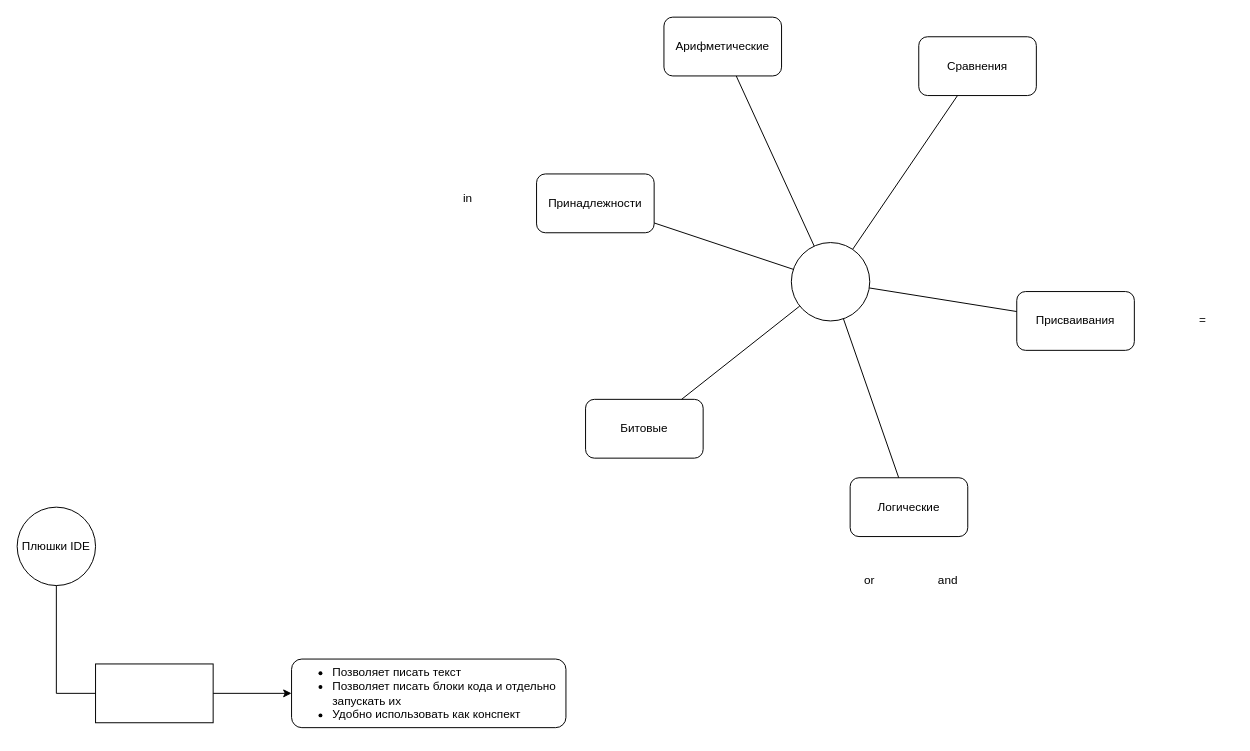
The diagram is 1250 pixels wide and 751 high, and some of its shapes have lost their labels. The shapes that lost their labels are listed below. From the top down, each one's box as (x1, y1, x2, y2) in pixels, then its label:
(790, 242, 870, 321): Операторы
(95, 663, 213, 723): Расширение файла: .ipynb
